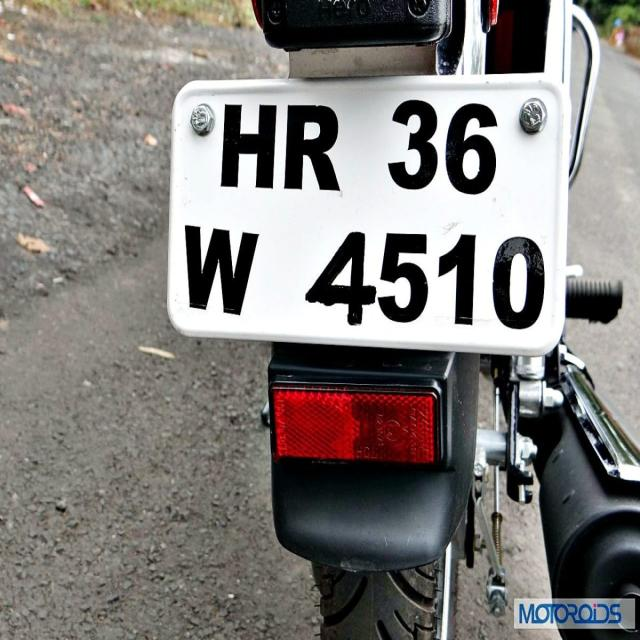number plate: (165, 72, 570, 357)
